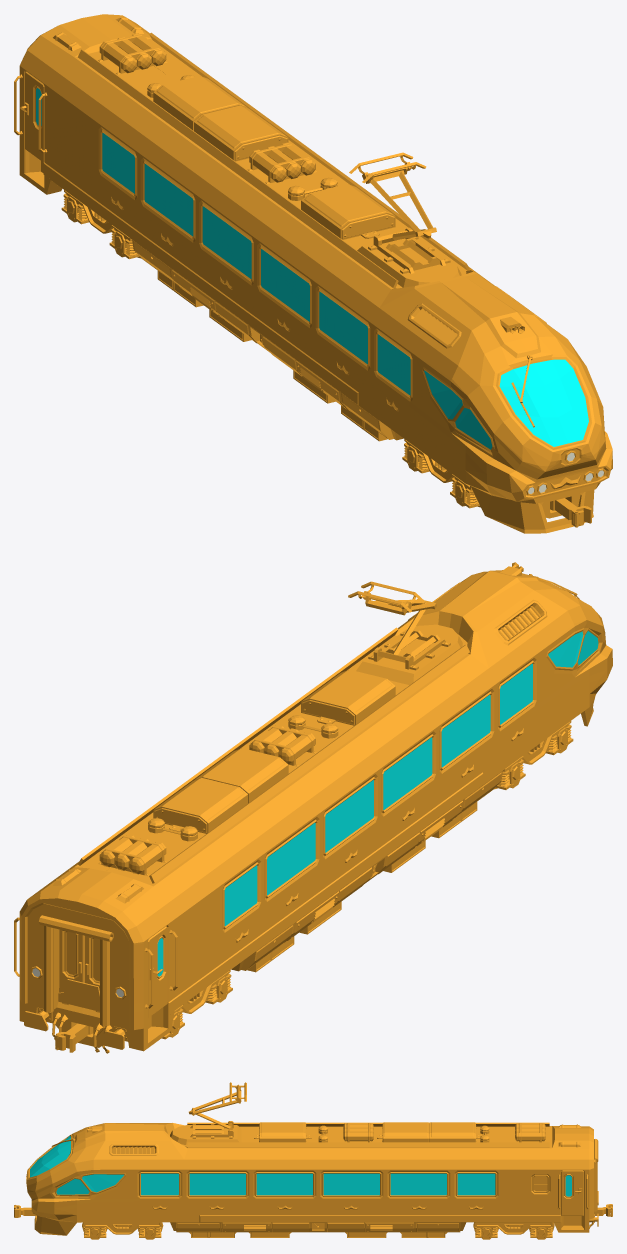
Rendered from SM_Train_Locomotive_Polyexpress_B.fbx.
The picture shows the model from 3 angles, top to bottom: view 1: azimuth 30°, elevation 25°; view 2: azimuth 150°, elevation 25°; view 3: azimuth 270°, elevation 25°; orthographic projection. The views are drawn at different scales.
Visible parts, largest first — view 1: SM_Train_Locomotive_Polyexpress_B_Base, SM_Train_Locomotive_Polyexpress_B_Base_Chassis_F, SM_Train_Locomotive_Polyexpress_B_Base_Chassis_B, SM_Train_Locomotive_Polyexpress_B_Base_Joint_F; view 2: SM_Train_Locomotive_Polyexpress_B_Base, SM_Train_Locomotive_Polyexpress_B_Base_Chassis_F, SM_Train_Locomotive_Polyexpress_B_Base_Chassis_B, SM_Train_Locomotive_Polyexpress_B_Base_Joint_B; view 3: SM_Train_Locomotive_Polyexpress_B_Base, SM_Train_Locomotive_Polyexpress_B_Base_Chassis_B, SM_Train_Locomotive_Polyexpress_B_Base_Chassis_F.
Boxes of the visible parts, x1,y1,x2,y2 form: SM_Train_Locomotive_Polyexpress_B_Base: [14, 14, 612, 533]; SM_Train_Locomotive_Polyexpress_B_Base_Chassis_F: [402, 439, 479, 508]; SM_Train_Locomotive_Polyexpress_B_Base_Chassis_B: [61, 190, 139, 259]; SM_Train_Locomotive_Polyexpress_B_Base_Joint_F: [550, 498, 591, 527]; SM_Train_Locomotive_Polyexpress_B_Base: [14, 562, 612, 1053]; SM_Train_Locomotive_Polyexpress_B_Base_Chassis_F: [495, 721, 573, 789]; SM_Train_Locomotive_Polyexpress_B_Base_Chassis_B: [161, 970, 232, 1039]; SM_Train_Locomotive_Polyexpress_B_Base_Joint_B: [55, 1023, 93, 1052]; SM_Train_Locomotive_Polyexpress_B_Base: [26, 1082, 598, 1237]; SM_Train_Locomotive_Polyexpress_B_Base_Chassis_B: [474, 1222, 552, 1239]; SM_Train_Locomotive_Polyexpress_B_Base_Chassis_F: [83, 1222, 161, 1239].
Size of the model in its own units: 3.37 by 5.68 by 21.81.
